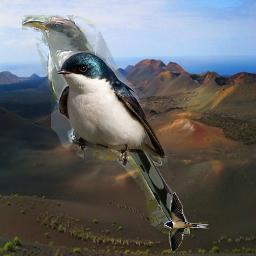Cuckoo: (22, 15, 190, 236)
Swallow: (58, 51, 168, 167), (164, 192, 209, 253)
